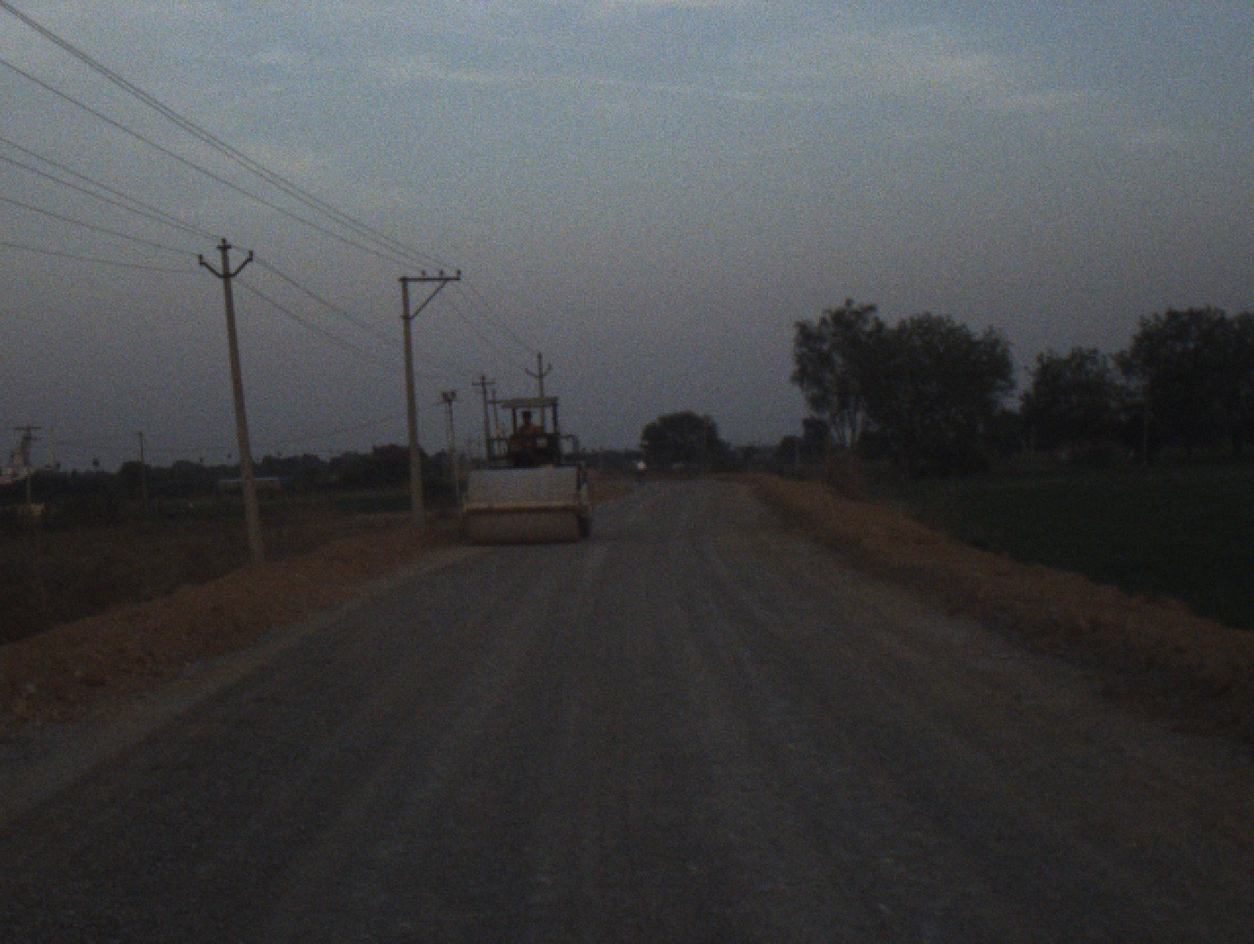bicycle: (637, 468, 646, 492)
rider: (633, 456, 646, 476)
vehicle fallback: (455, 390, 600, 547)
